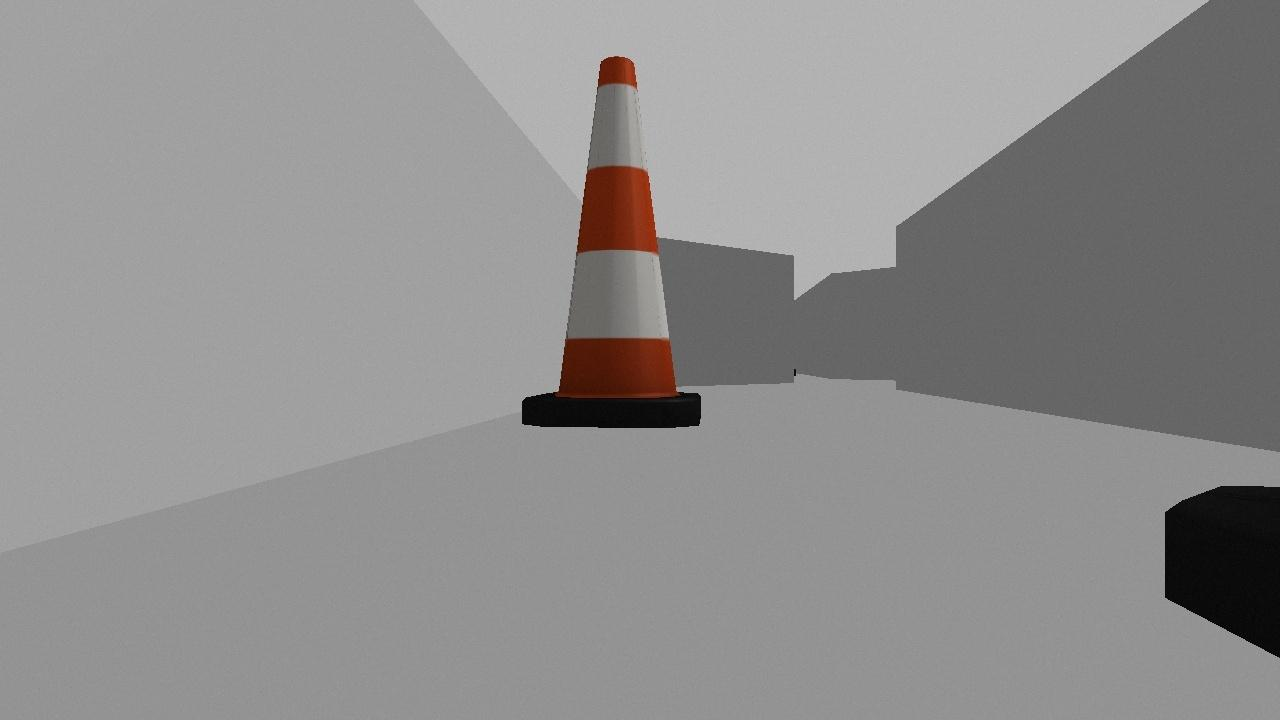cone_barrel: (506, 38, 720, 443)
